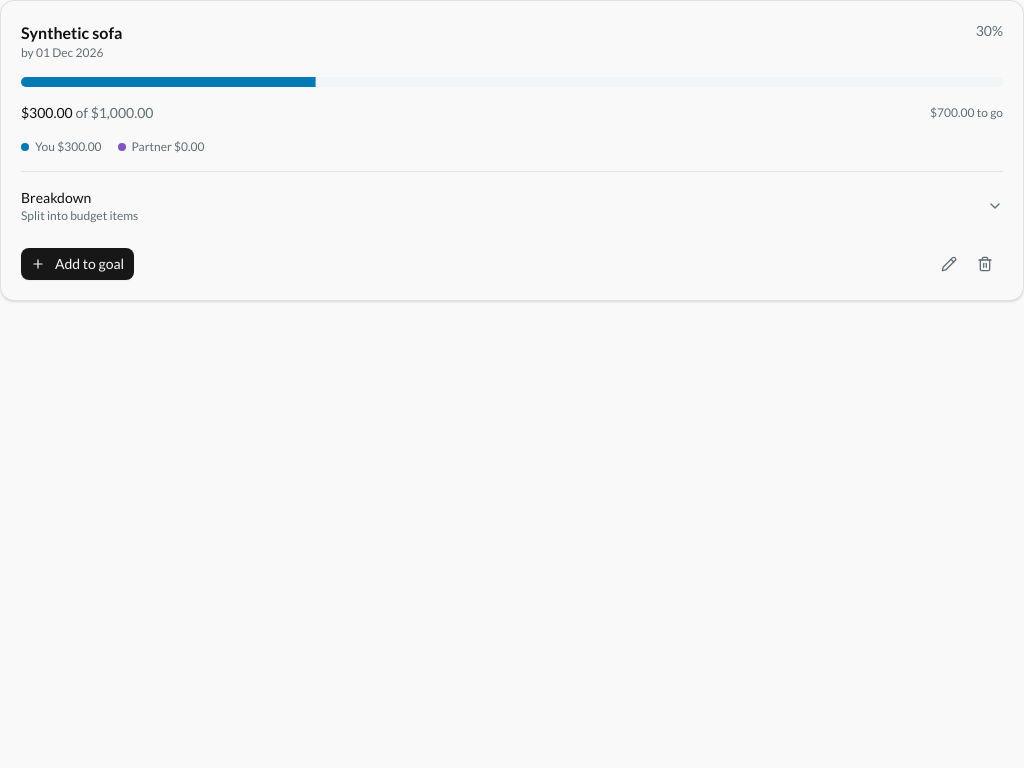
Scenario: household goal editing › shows Funded when the new target is at or below the contributions
Click the button named "Edit goal Synthetic sofa".
click(949, 264)  # box [931, 248, 967, 280]
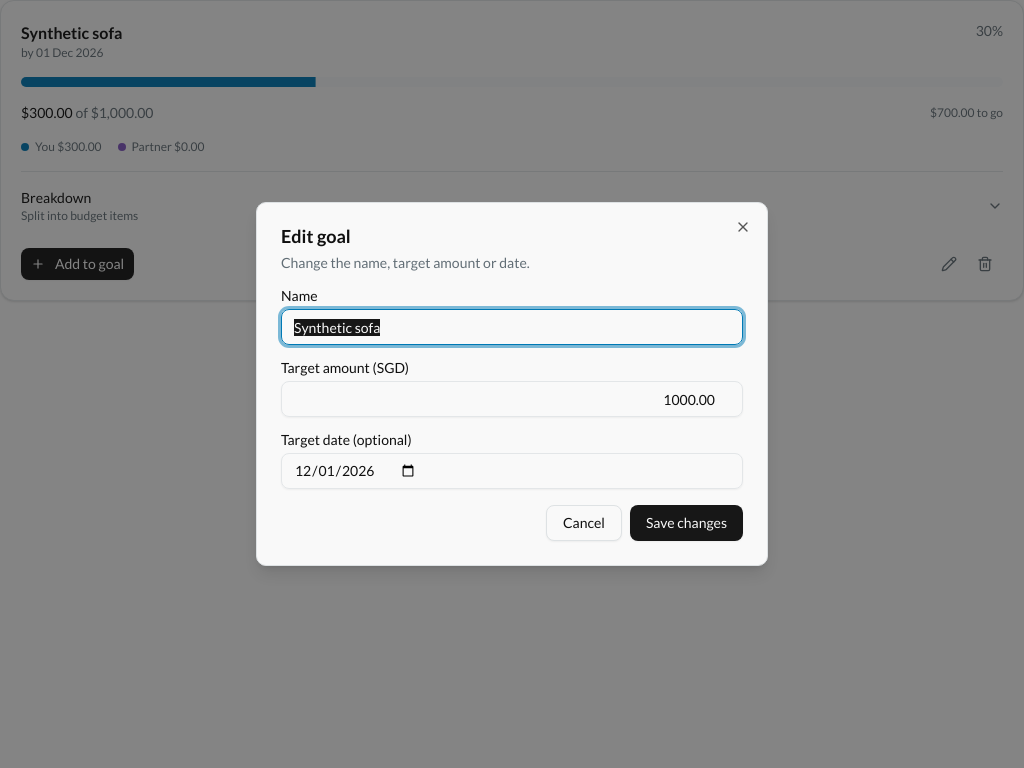
Replace the text in the number field labelled "Target amount (SGD)" with "250" at (512, 399), box [281, 381, 743, 417]
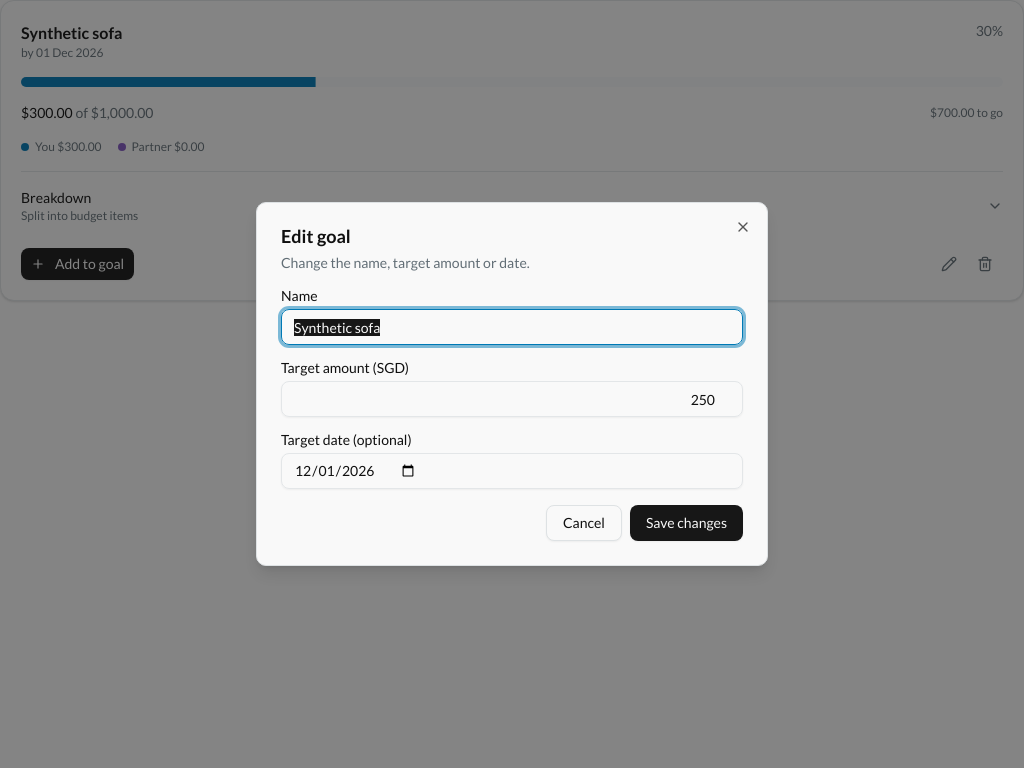
Click the button "Save changes".
click(686, 523)  # box [630, 505, 743, 541]
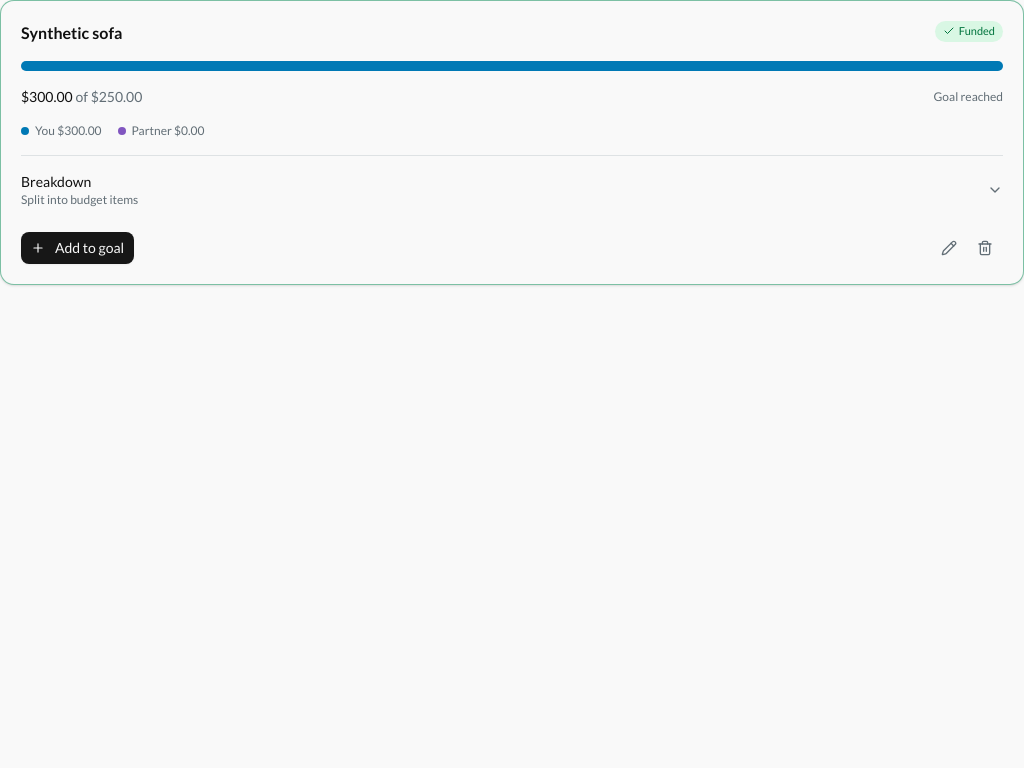
Check: the text "Funded" is shown, box [935, 21, 1003, 42]
Check: the text "Goal reached" is shown, box [934, 89, 1003, 105]
